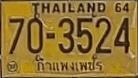0: (26, 17, 42, 53)
2: (95, 17, 110, 53)
3: (58, 18, 73, 53)
4: (113, 17, 129, 53)
5: (76, 17, 92, 53)
7: (8, 17, 24, 54)
KPT: (35, 56, 104, 71)
